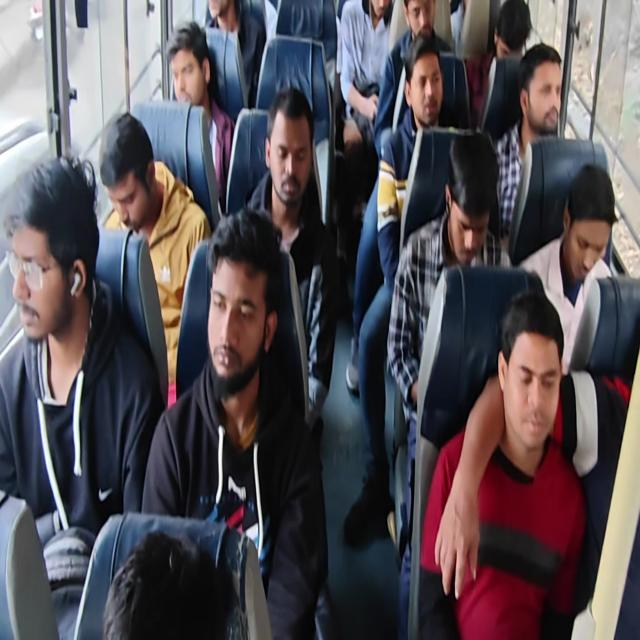person: (1, 1, 636, 638), (140, 206, 332, 638), (0, 153, 164, 638), (418, 289, 587, 638), (386, 131, 511, 538), (346, 34, 454, 394), (98, 111, 212, 408), (245, 85, 338, 439), (518, 162, 616, 375), (102, 529, 249, 638), (492, 42, 563, 238), (165, 20, 235, 211), (373, 0, 454, 161), (336, 0, 393, 152), (465, 0, 532, 128), (203, 0, 265, 106)
